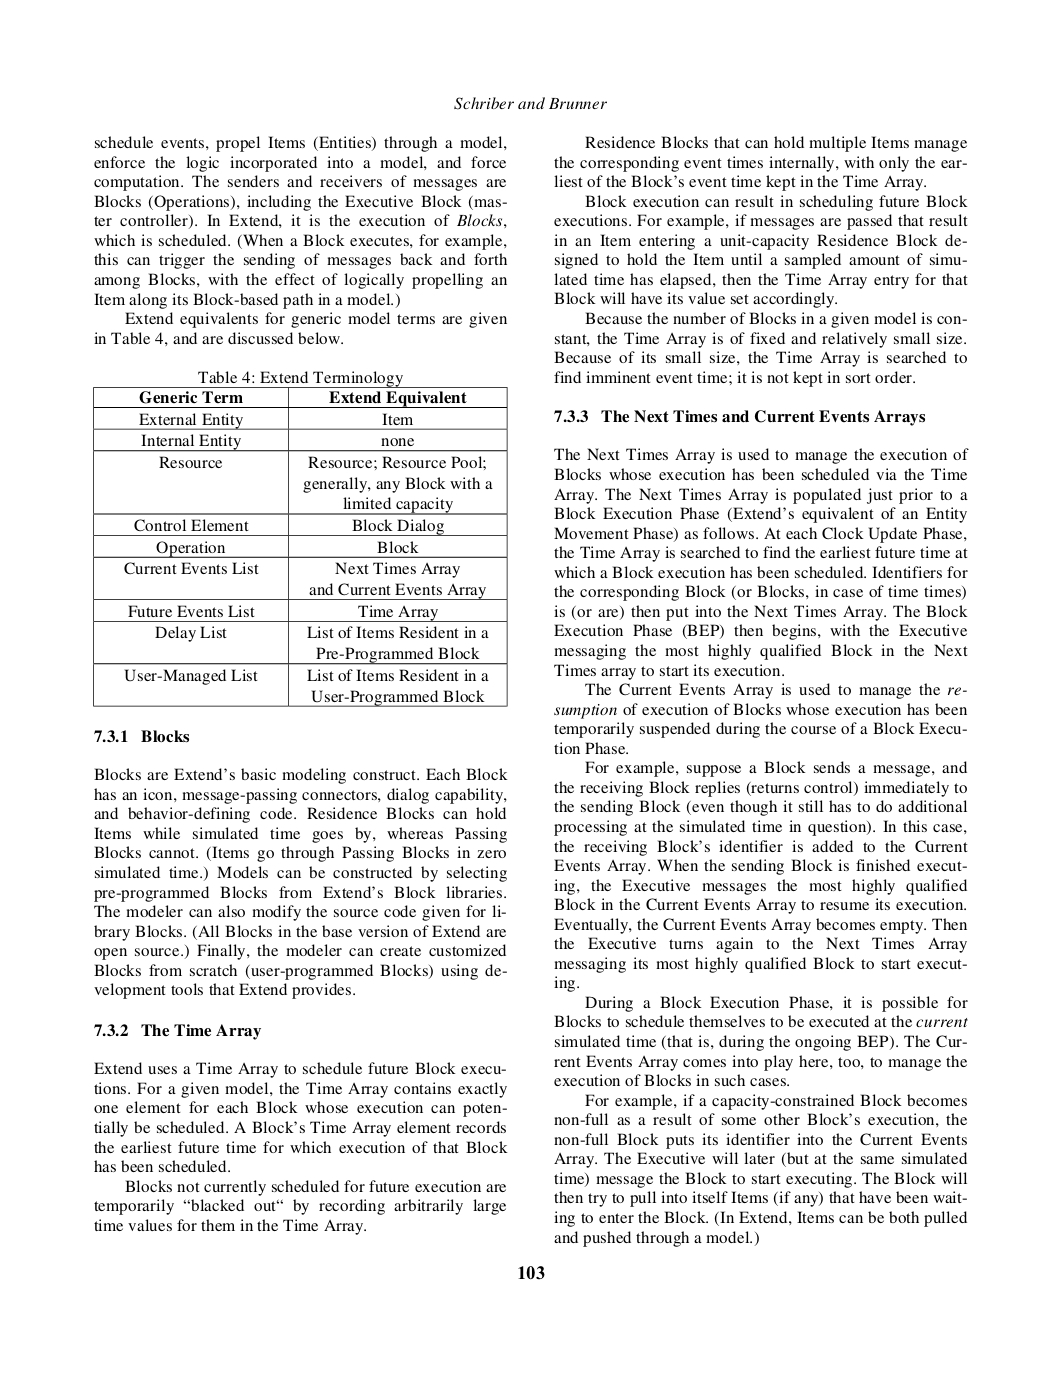Table: (94, 384, 507, 705)
